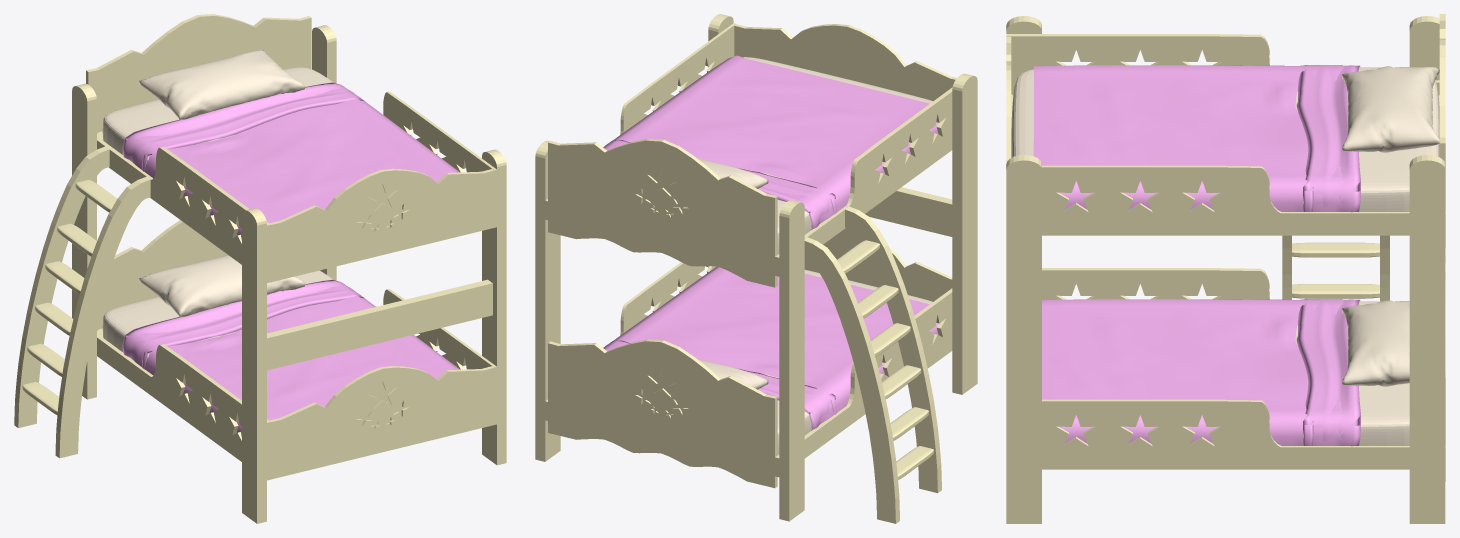
File: Child_Bed.fbx
The picture shows the model from 3 angles, left to right: view 1: azimuth 30°, elevation 25°; view 2: azimuth 150°, elevation 25°; view 3: azimuth 270°, elevation 25°; orthographic projection. The views are drawn at different scales.
Visible parts, largest first — view 1: Bed.001; view 2: Bed.001; view 3: Bed.001.
Part boxes in pixels (<box>): Bed.001: <box>14,14,506,523</box>; Bed.001: <box>535,14,977,523</box>; Bed.001: <box>1006,14,1445,523</box>.
Size of the model in its own units: 22.31 by 22.09 by 21.62.
